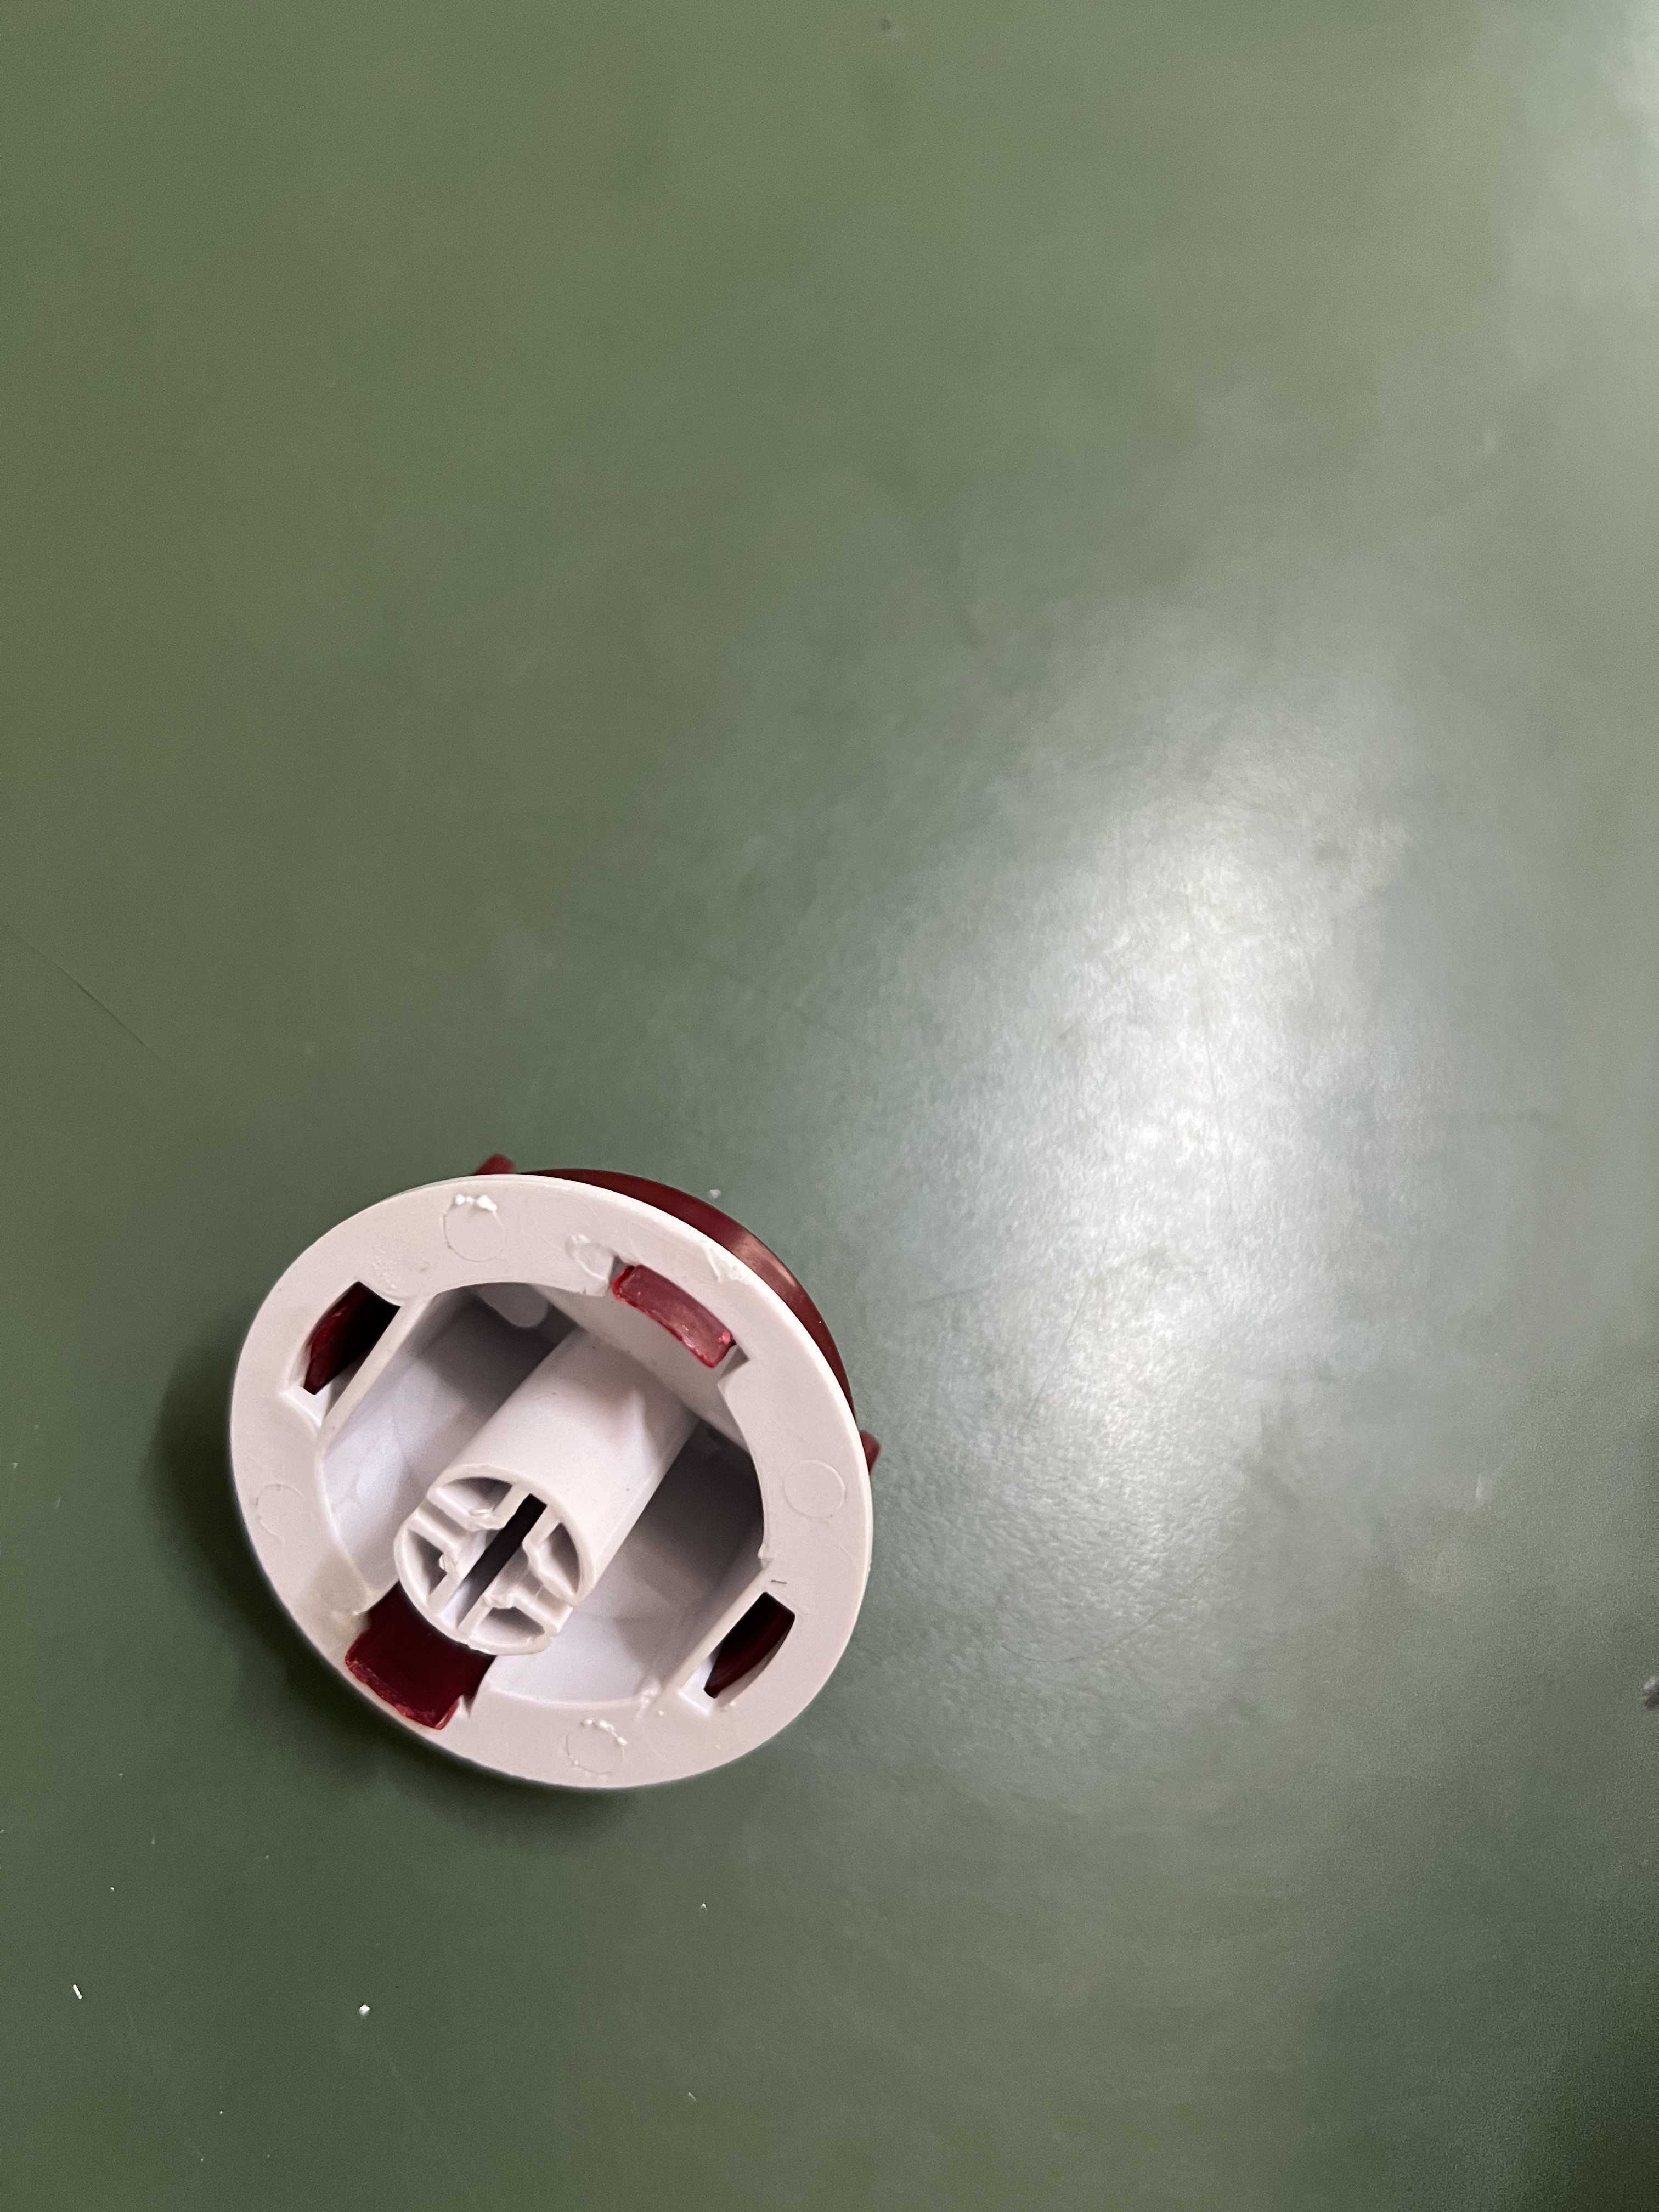regulator: (209, 1143, 939, 1784)
